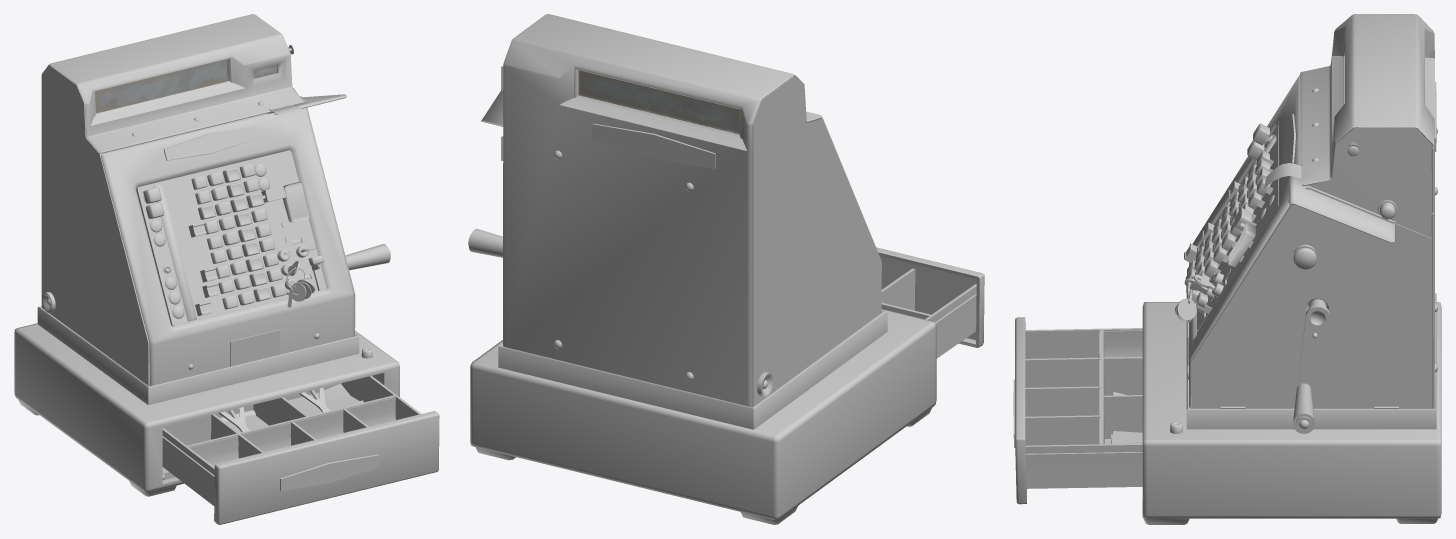
File: cash_register.gltf
3 renders of one model, left to right at view 1: azimuth 30°, elevation 25°; view 2: azimuth 150°, elevation 25°; view 3: azimuth 270°, elevation 25°, orthographic. The views are drawn at different scales.
Parts seen in each view (by area): view 1: cash_register; view 2: cash_register; view 3: cash_register.
Boxes of the visible parts, x1,y1,x2,y2 form: cash_register: (14,14,439,524); cash_register: (468,14,984,524); cash_register: (1013,14,1441,524).
Size of the model in its own units: 0.6005 by 0.6214 by 0.6242.
